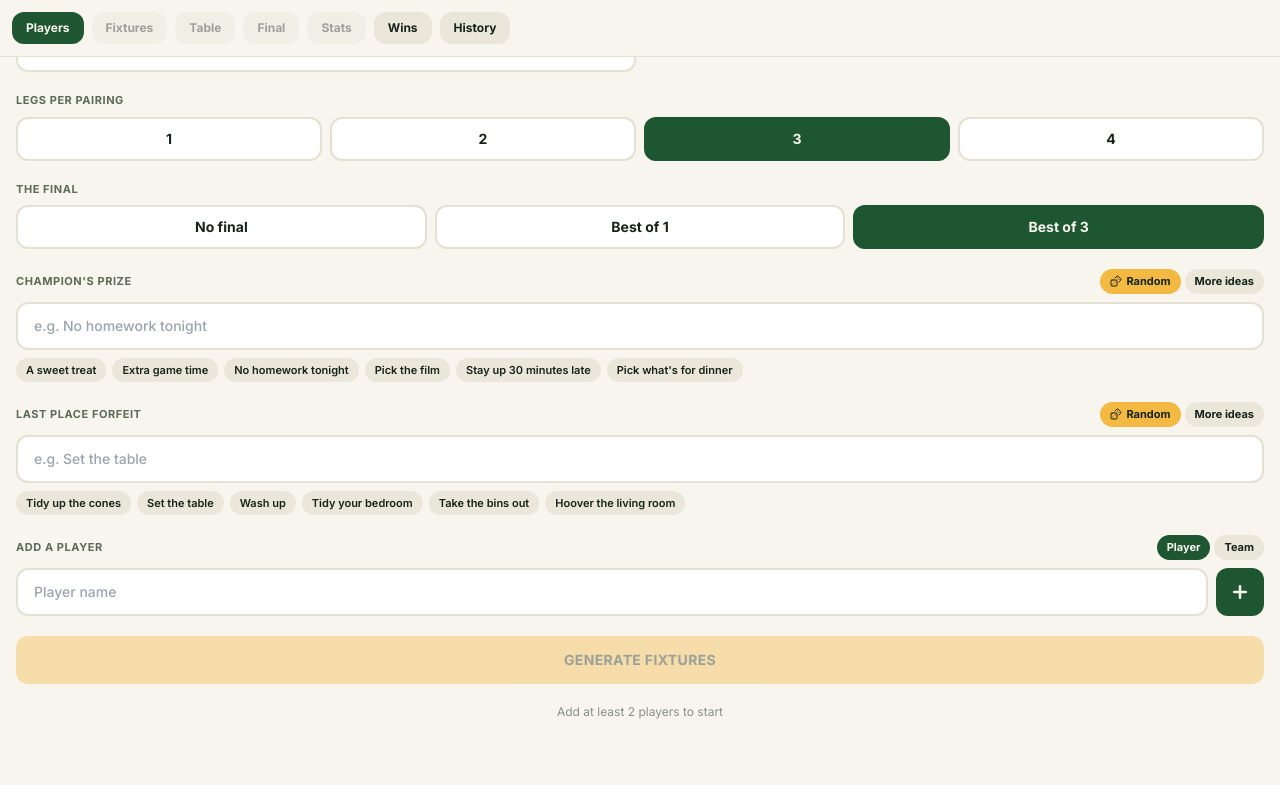
it: New / reset › keeps the player roster but clears fixtures and the mode badge
The image size is (1280, 785).
(page scrolled)
Type "Alice" into the field with placeholder "Player name" at point(612, 592), box x1=16 y1=568 x2=1208 y2=616
Press Enter in the field with placeholder "Player name", box x1=16 y1=568 x2=1208 y2=616
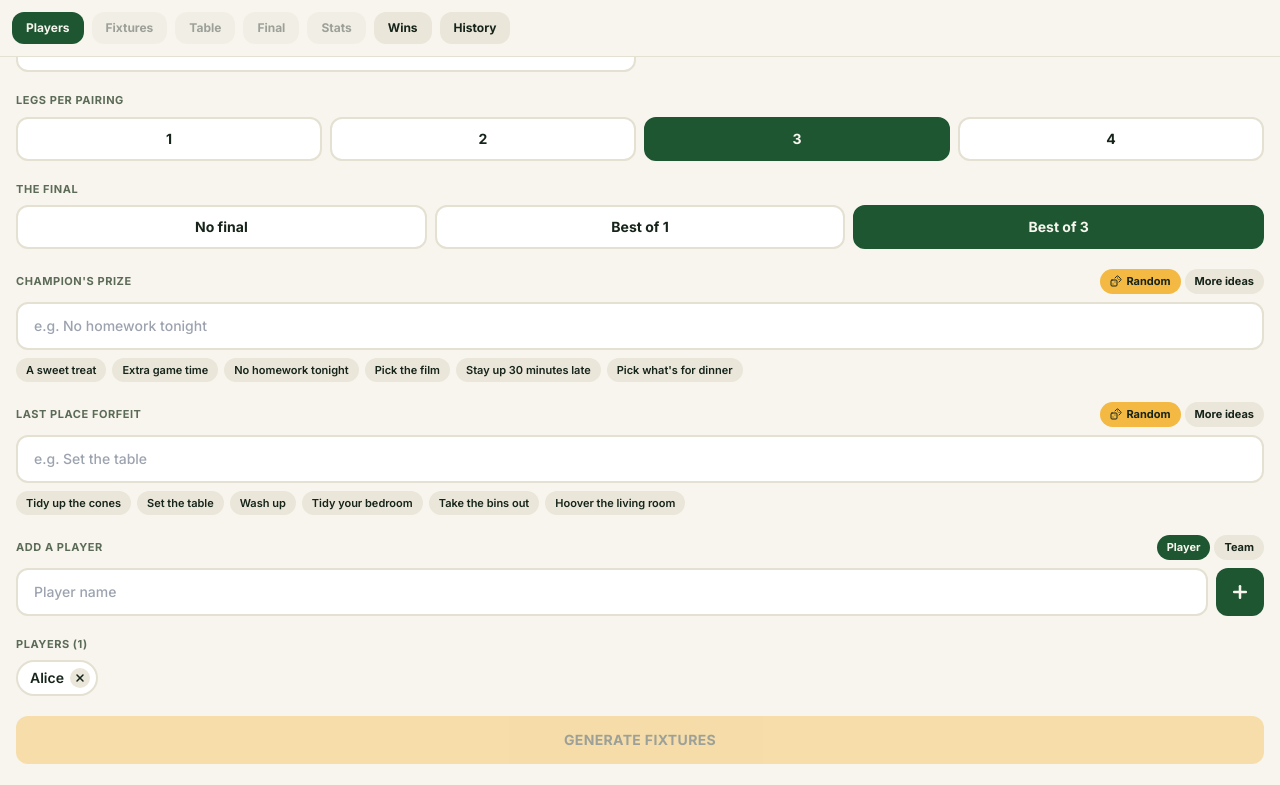
Type "Bob" into the field with placeholder "Player name" at point(612, 592), box x1=16 y1=568 x2=1208 y2=616
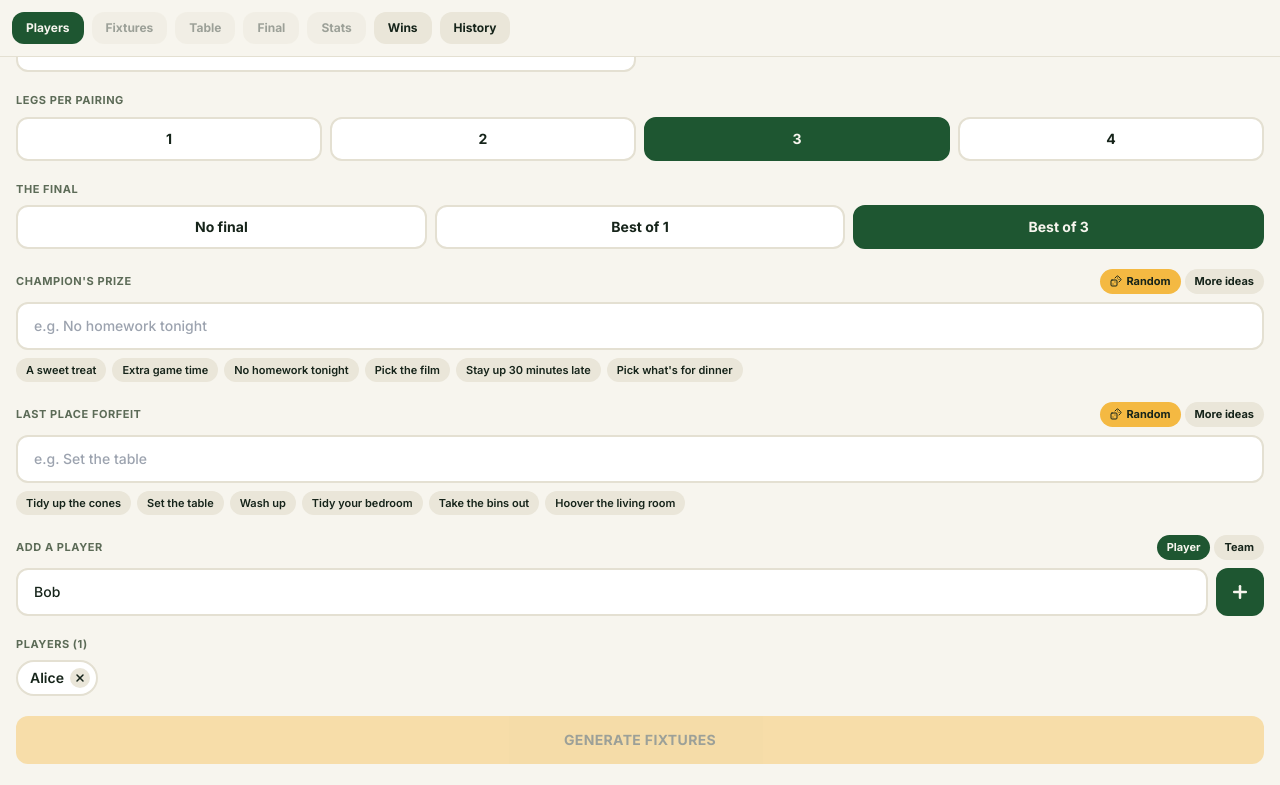
Press Enter in the field with placeholder "Player name", box x1=16 y1=568 x2=1208 y2=616
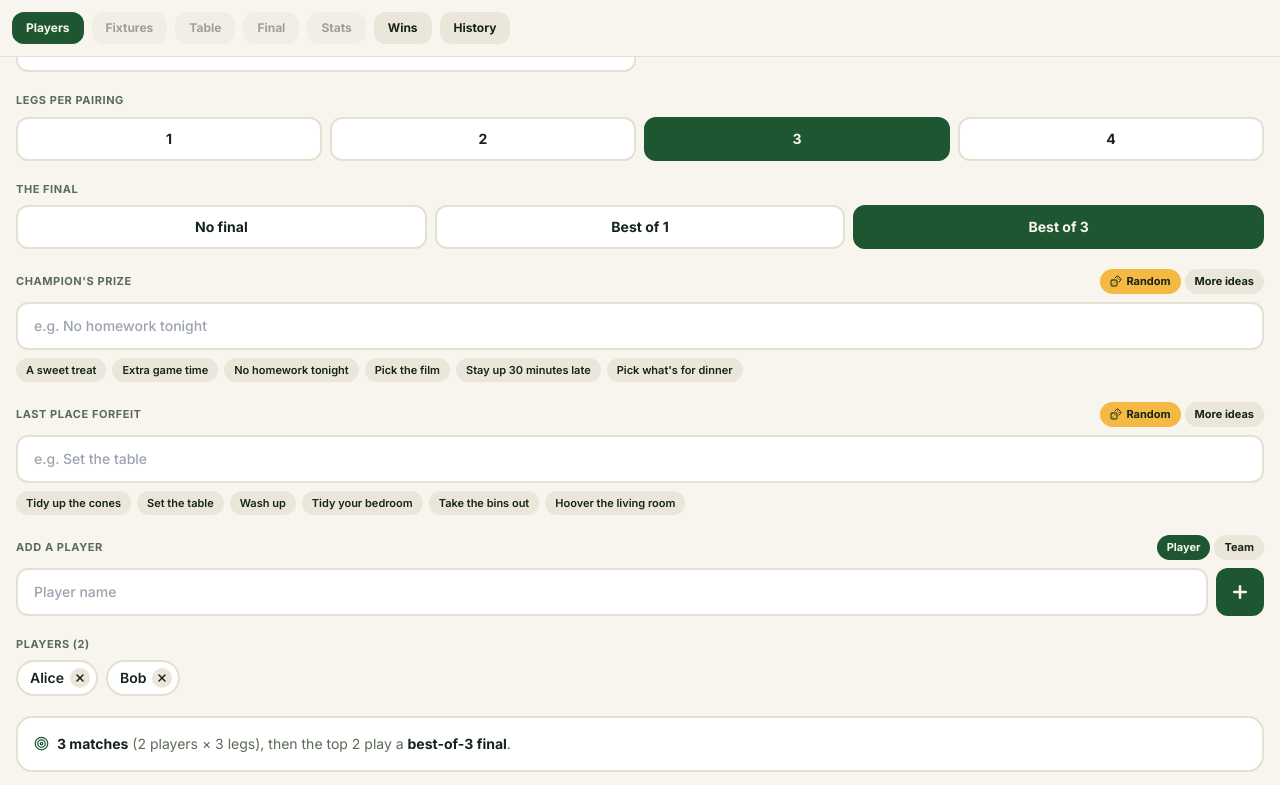
Click the button "1" at point(169, 139), box x1=16 y1=117 x2=322 y2=161
(page scrolled)
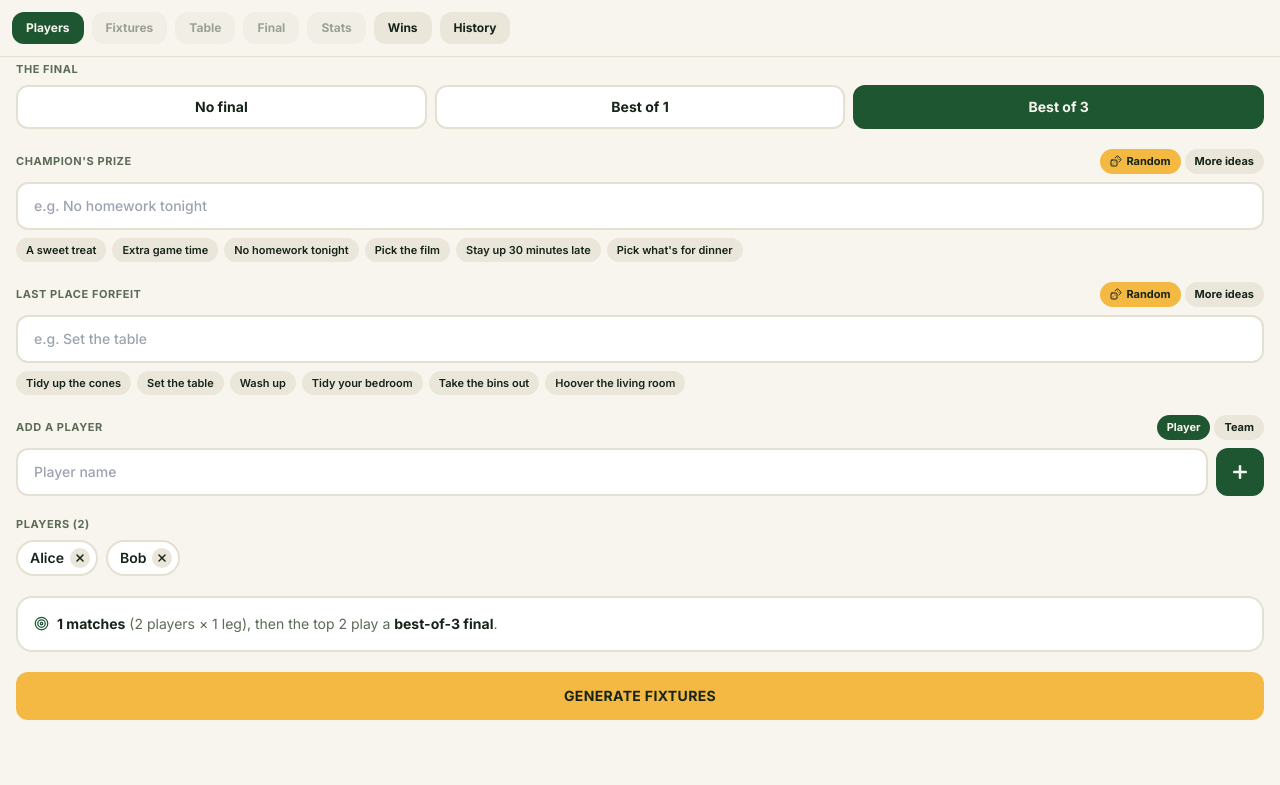
Click the button "GENERATE FIXTURES" at point(640, 696), box x1=16 y1=672 x2=1264 y2=720
(page scrolled)
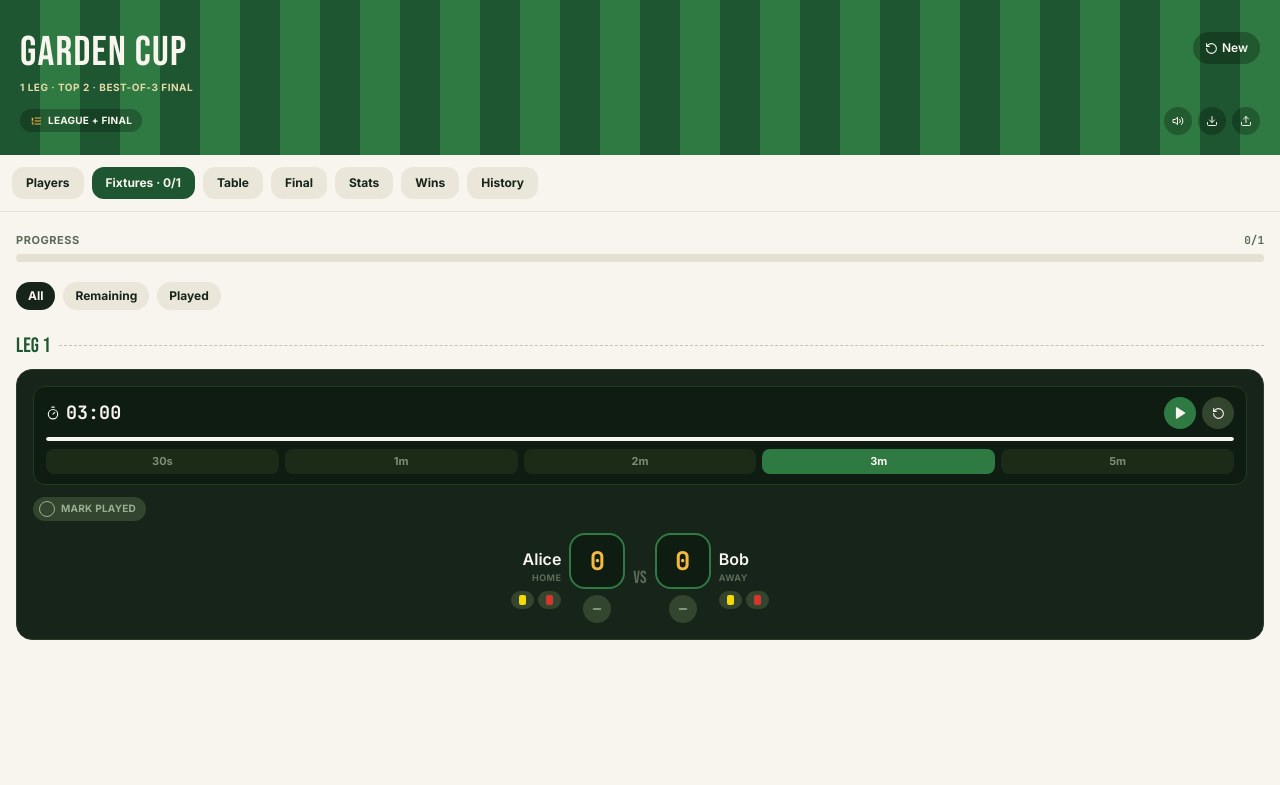
Expected: the button "Fixtures · 0/1" is shown, x1=92 y1=167 x2=195 y2=199
Click the button "New" at point(1226, 48), box x1=1193 y1=32 x2=1260 y2=64
(page scrolled)
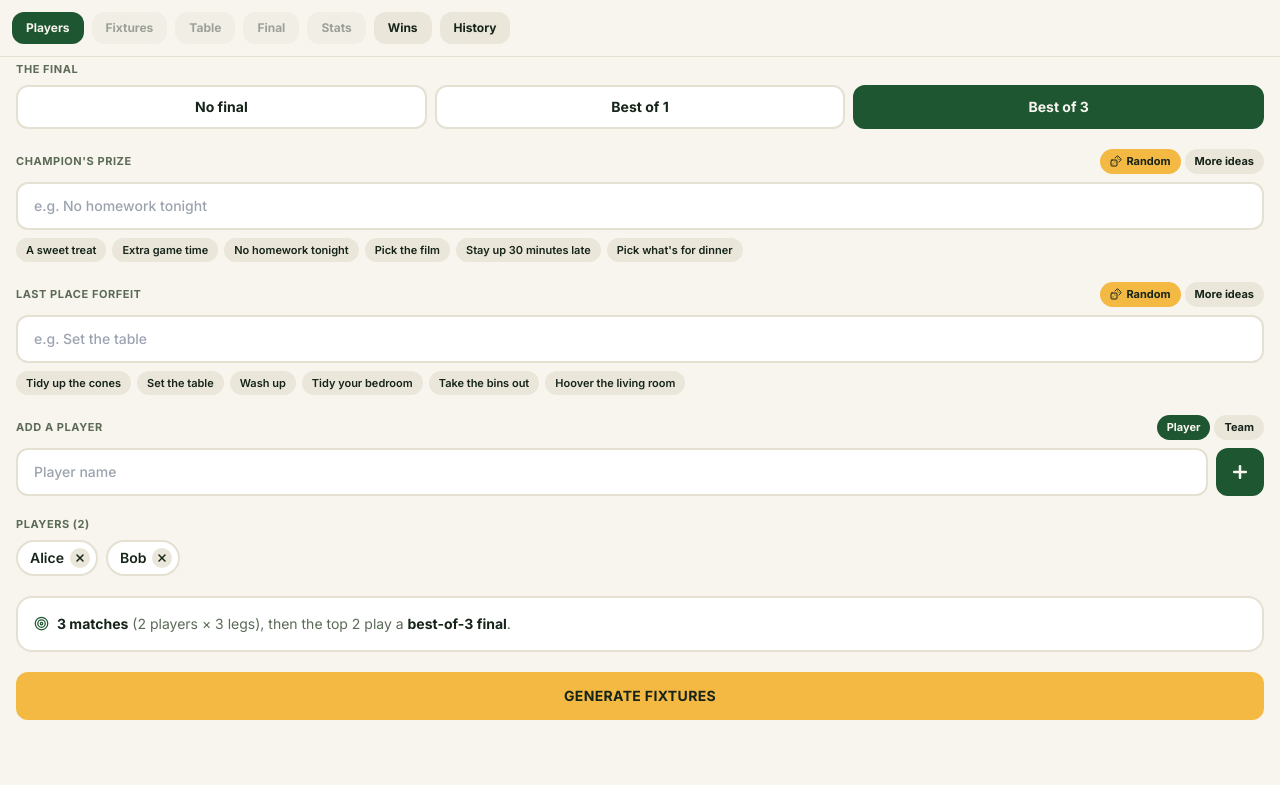
Now the text "Alice" is shown, box x1=30 y1=548 x2=64 y2=568
Now the text "Bob" is shown, box x1=120 y1=548 x2=146 y2=568
Now the text "Players (2)" is shown, box x1=16 y1=516 x2=90 y2=532
